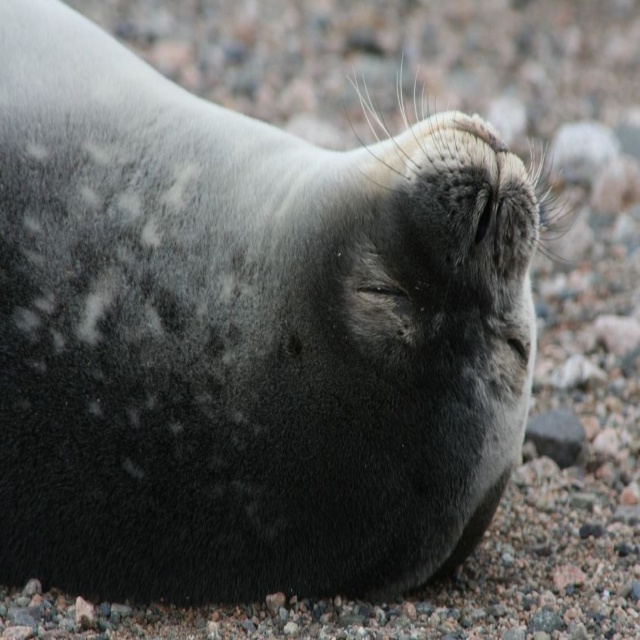Harbor seal: (0, 0, 580, 594)
